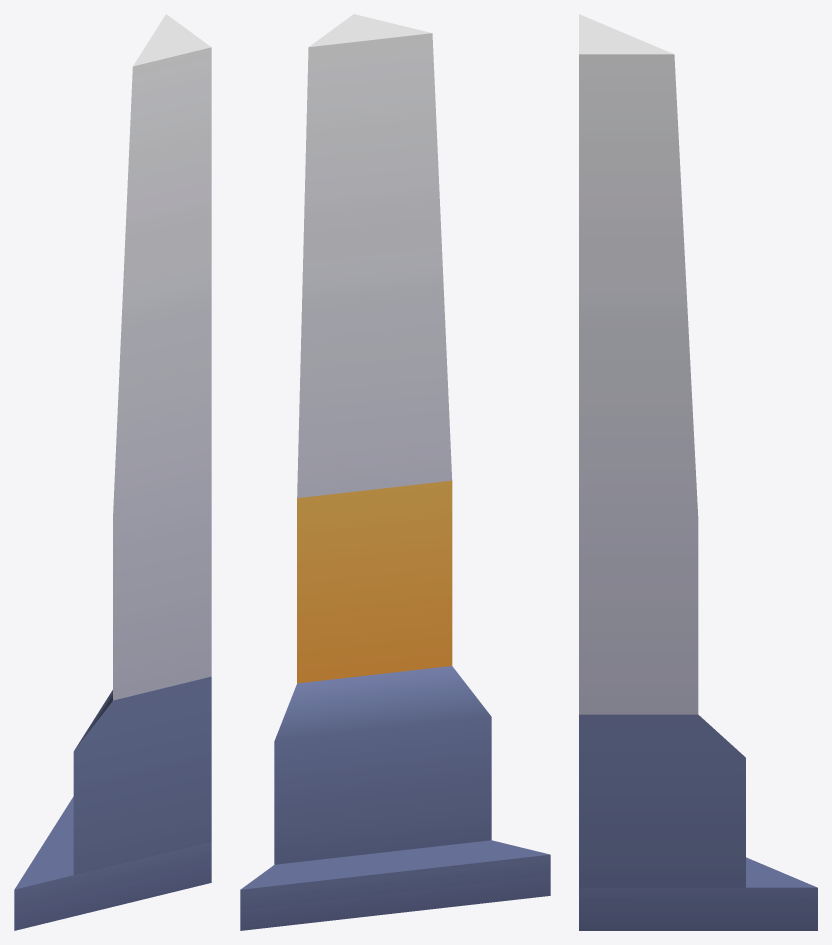
The model's file is template-wall-corner.glb.
3 views of the same model, side by side, from view 1: azimuth 30°, elevation 25°; view 2: azimuth 150°, elevation 25°; view 3: azimuth 270°, elevation 25° (orthographic). The views are drawn at different scales.
Visible parts, largest first — view 1: template-wall-corner; view 2: template-wall-corner; view 3: template-wall-corner.
Boxes of the visible parts, <box> form: template-wall-corner: <box>14,14,211,930</box>; template-wall-corner: <box>240,14,550,930</box>; template-wall-corner: <box>579,14,817,930</box>.
Size of the model in its own units: 1 by 4.05 by 1.
1 material, 1 textured.
